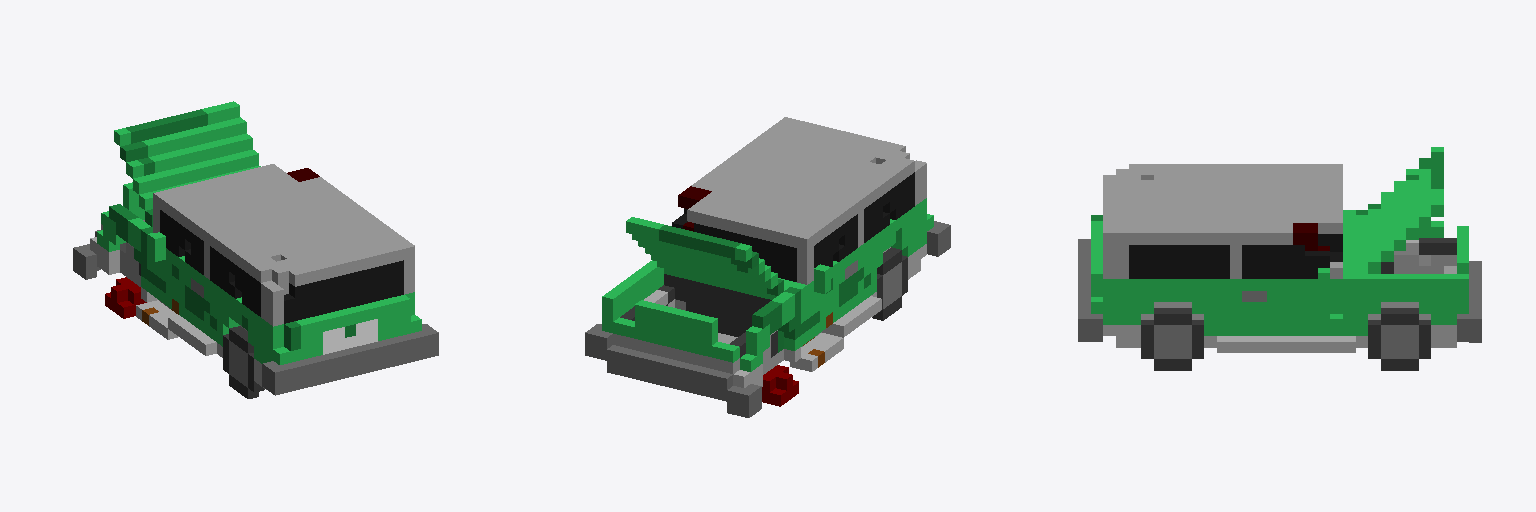
3 renders of one model, left to right at view 1: azimuth 30°, elevation 25°; view 2: azimuth 150°, elevation 25°; view 3: azimuth 270°, elevation 25°, orthographic.
Visible parts, largest first — view 1: object 1; view 2: object 1; view 3: object 1.
Boxes of the visible parts, box(x1,y1,x2,y2) form: object 1: box(73, 101, 438, 398); object 1: box(585, 117, 950, 417); object 1: box(1078, 147, 1481, 370).
Size of the model in its own units: 1.5 by 1.4 by 3.2.
1 materials, 1 textured.